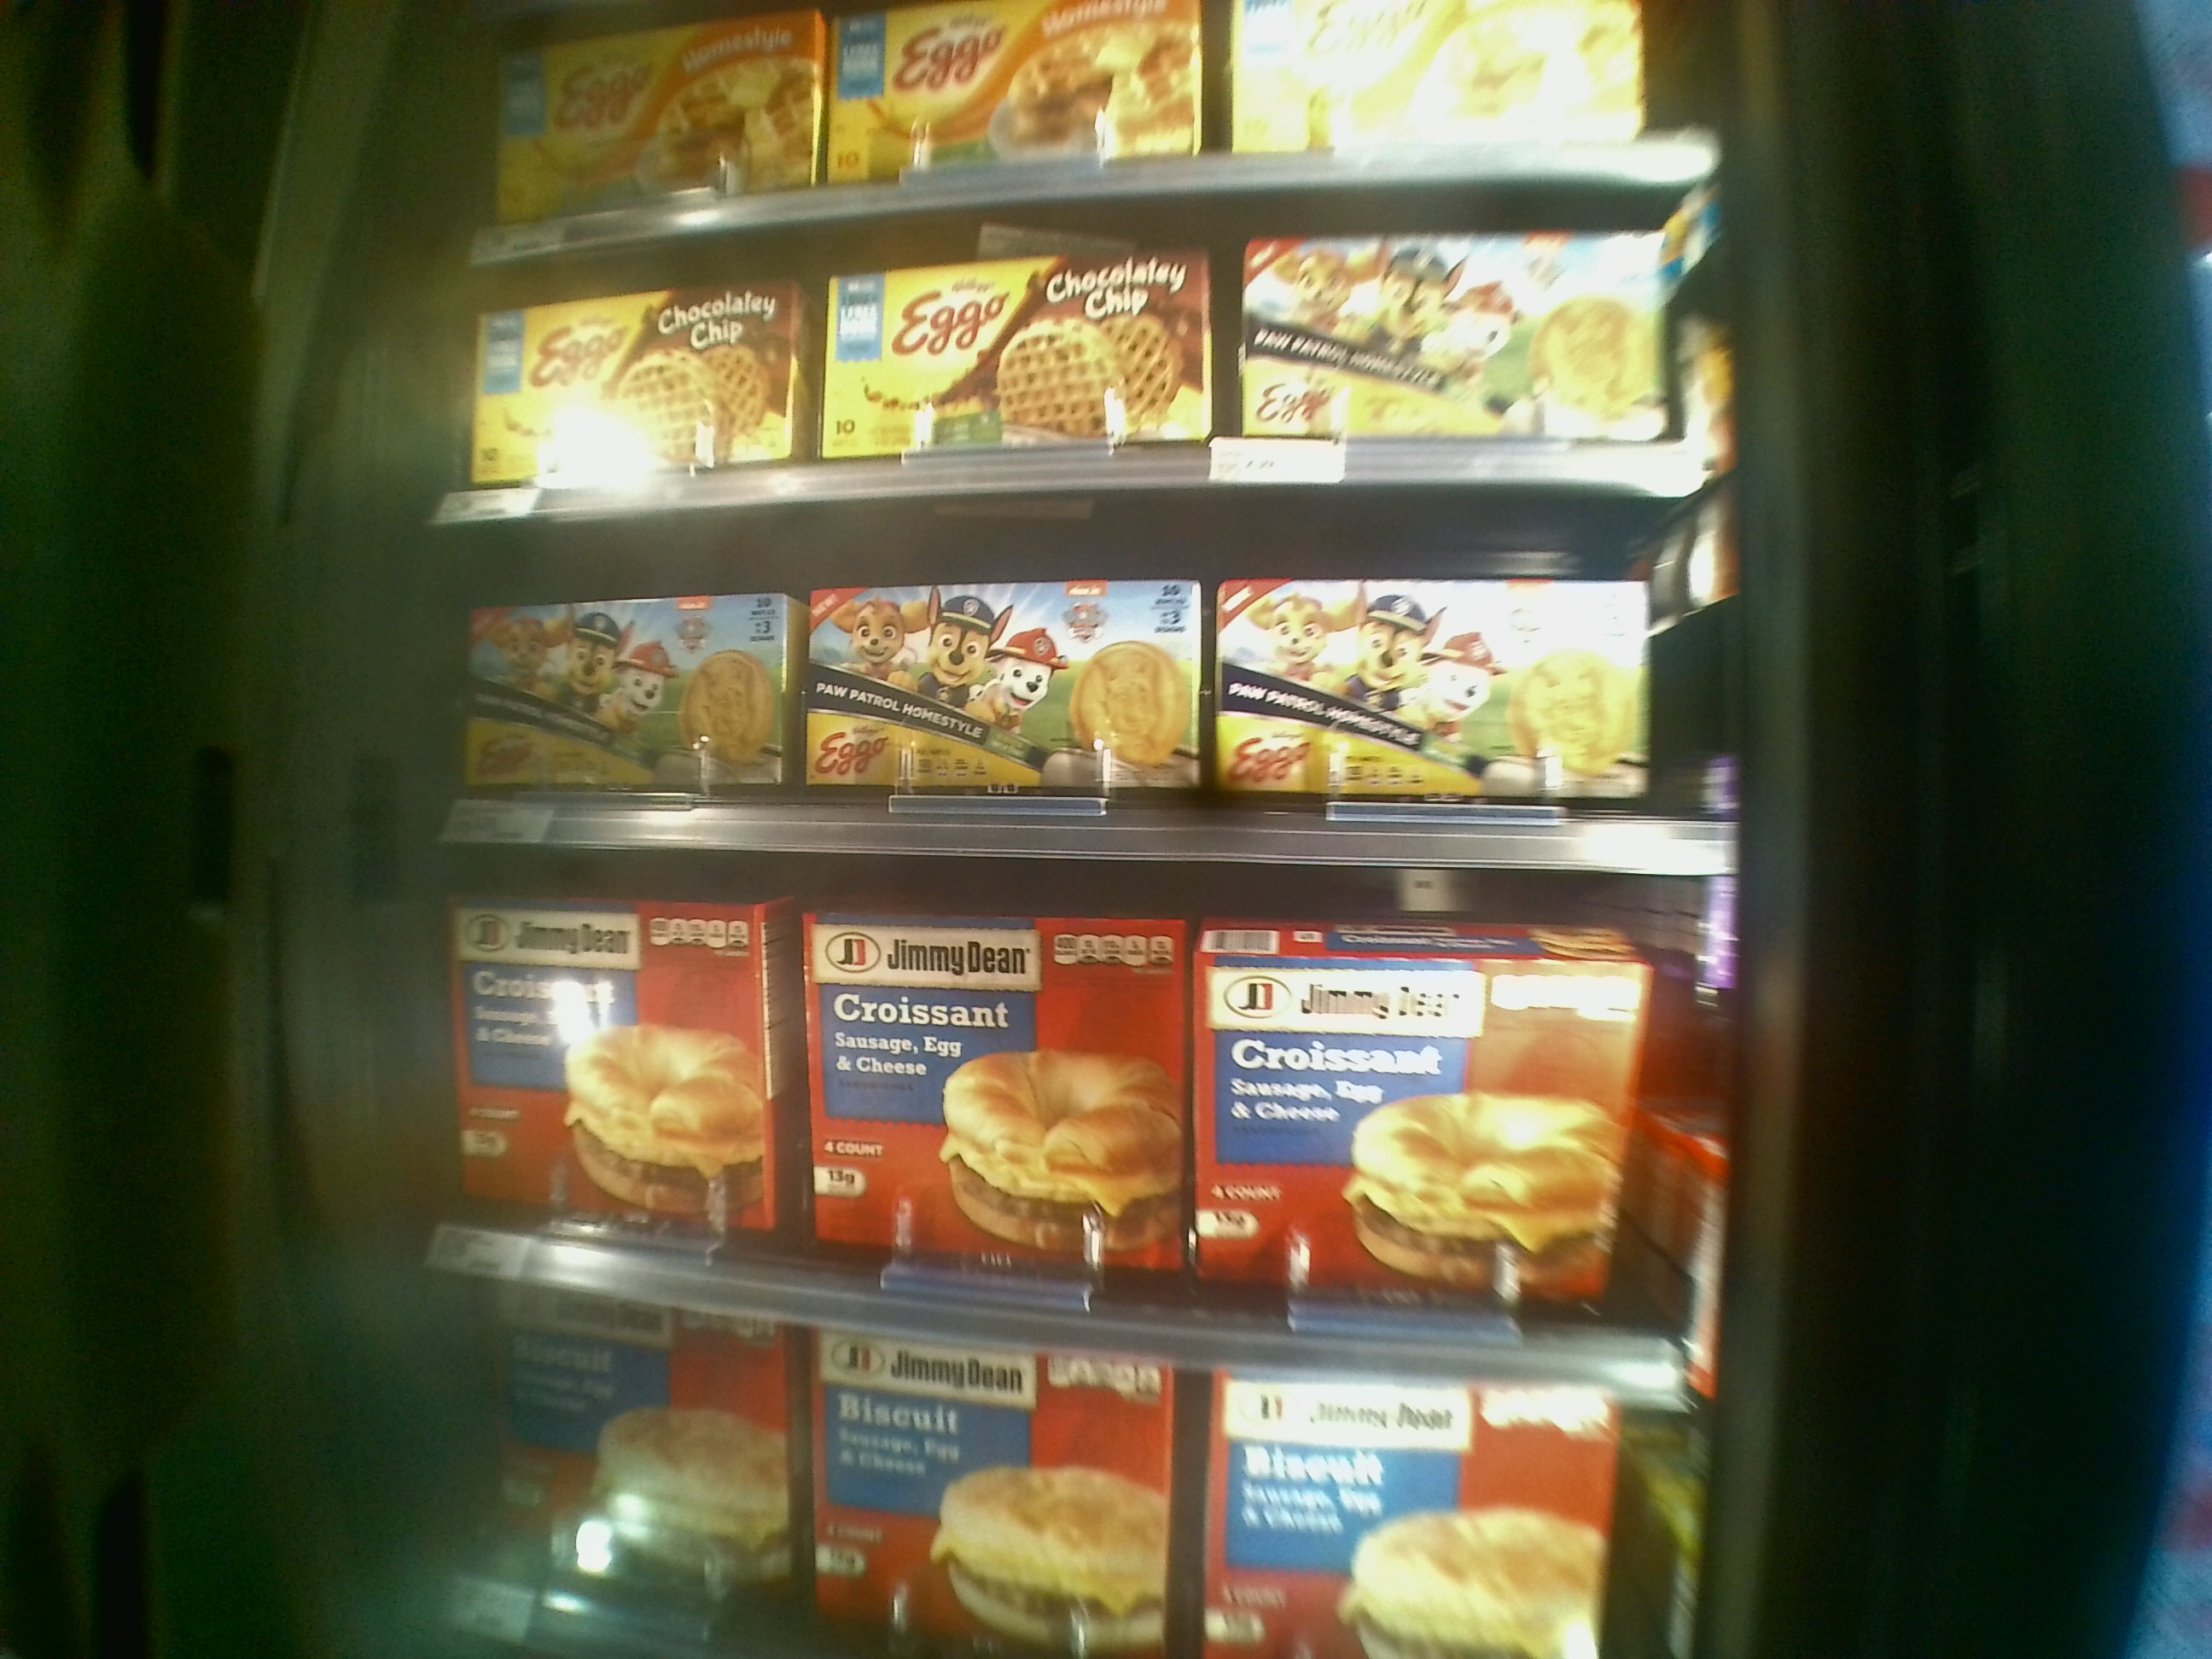shelf: (428, 831, 1733, 1371), (435, 476, 1730, 871), (435, 185, 1719, 518)
